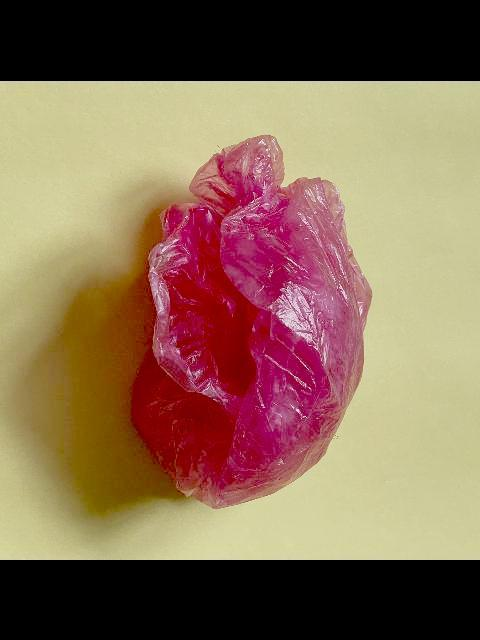plasticbag: (131, 135, 373, 509)
